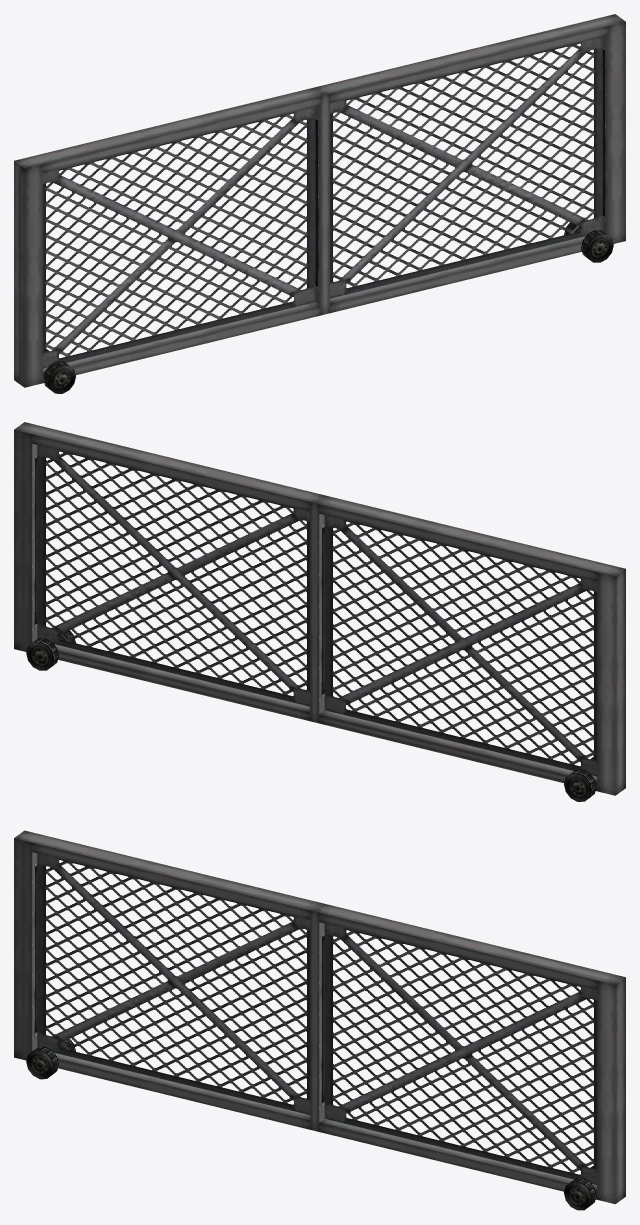
File: MISSION1GATE.glb
3 renders of one model, top to bottom at view 1: azimuth 30°, elevation 25°; view 2: azimuth 150°, elevation 25°; view 3: azimuth 330°, elevation 25°, orthographic.
Visible parts, largest first — view 1: MISSION1GATE; view 2: MISSION1GATE; view 3: MISSION1GATE.
Boxes of the visible parts, x1,y1,x2,y2 form: MISSION1GATE: [14, 14, 625, 393]; MISSION1GATE: [14, 422, 625, 801]; MISSION1GATE: [14, 830, 625, 1210].
Size of the model in its own units: 8.25 by 3 by 0.531.
5 materials, 5 textured.
